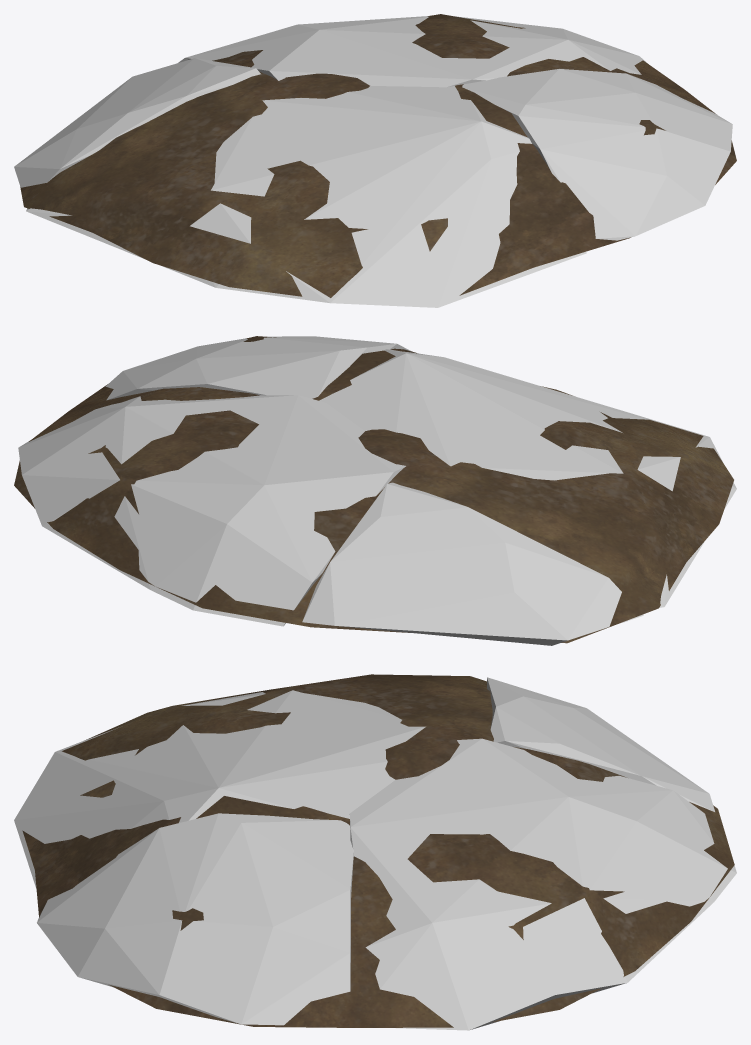
The model's file is SM_Dirt_Mound_B.fbx.
3 views of the same model, one above another, from view 1: azimuth 30°, elevation 25°; view 2: azimuth 150°, elevation 25°; view 3: azimuth 270°, elevation 25° (orthographic). The views are drawn at different scales.
Parts seen in each view (by area): view 1: SM_Dirt_Mound_B_ConvexHulls, SM_Dirt_Mound_B; view 2: SM_Dirt_Mound_B_ConvexHulls, SM_Dirt_Mound_B; view 3: SM_Dirt_Mound_B_ConvexHulls, SM_Dirt_Mound_B.
Boxes of the visible parts, <box> form: SM_Dirt_Mound_B_ConvexHulls: <box>14,16,732,307</box>; SM_Dirt_Mound_B: <box>20,14,736,297</box>; SM_Dirt_Mound_B_ConvexHulls: <box>18,336,736,645</box>; SM_Dirt_Mound_B: <box>14,336,733,643</box>; SM_Dirt_Mound_B_ConvexHulls: <box>14,677,736,1030</box>; SM_Dirt_Mound_B: <box>22,674,734,1027</box>.
Size of the model in its own units: 154 by 133 by 21.71.
2 materials, 1 textured.
